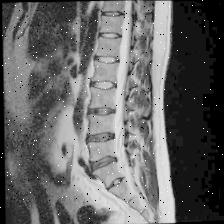disc: (88, 76, 120, 92), (91, 52, 122, 68), (99, 6, 128, 21), (98, 30, 124, 43)
hdisc: (84, 129, 118, 147), (86, 153, 120, 171), (86, 103, 118, 120)
